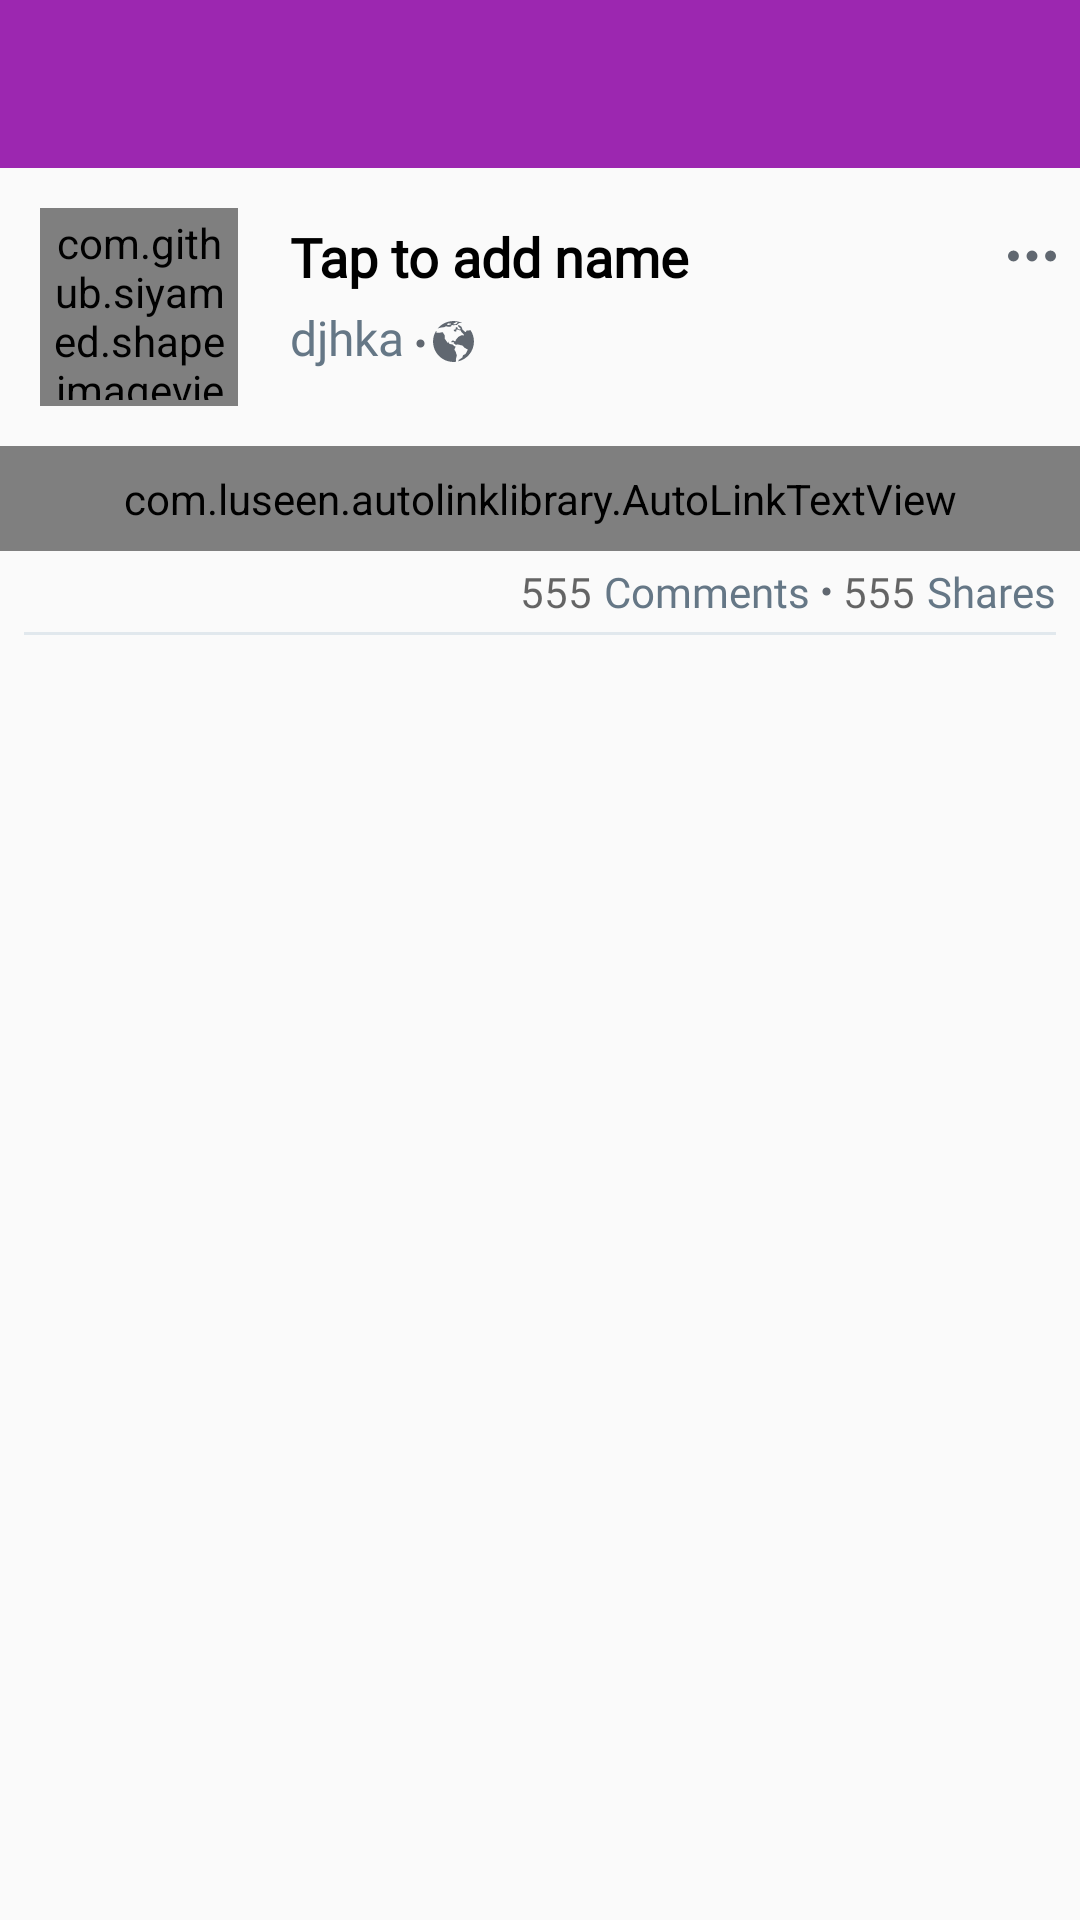

Icons on this 1080 x 1920 Android screen, each with its box as (x1, y1, x2, y2):
Drop Down Menu: (1008, 250, 1056, 262)
world: (433, 321, 474, 362)
